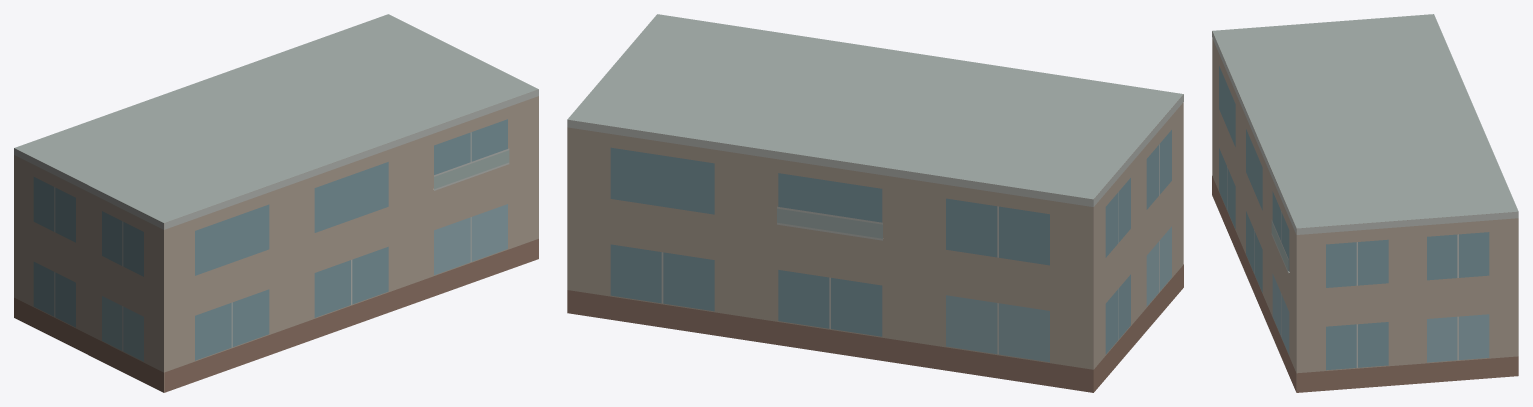
The model's file is survey-upis-32912453.glb.
3 views of the same model, side by side, from view 1: azimuth 30°, elevation 25°; view 2: azimuth 150°, elevation 25°; view 3: azimuth 270°, elevation 25° (orthographic). The views are drawn at different scales.
Parts seen in each view (by area): view 1: survey-upis-32912453.tmp; view 2: survey-upis-32912453.tmp; view 3: survey-upis-32912453.tmp.
Part boxes in pixels (x1=…): survey-upis-32912453.tmp: x1=14, y1=14, x2=538, y2=392; survey-upis-32912453.tmp: x1=567, y1=14, x2=1183, y2=392; survey-upis-32912453.tmp: x1=1212, y1=14, x2=1518, y2=392.
Bounding box in the file's own units: 17.08 × 6.1 × 10.32.
